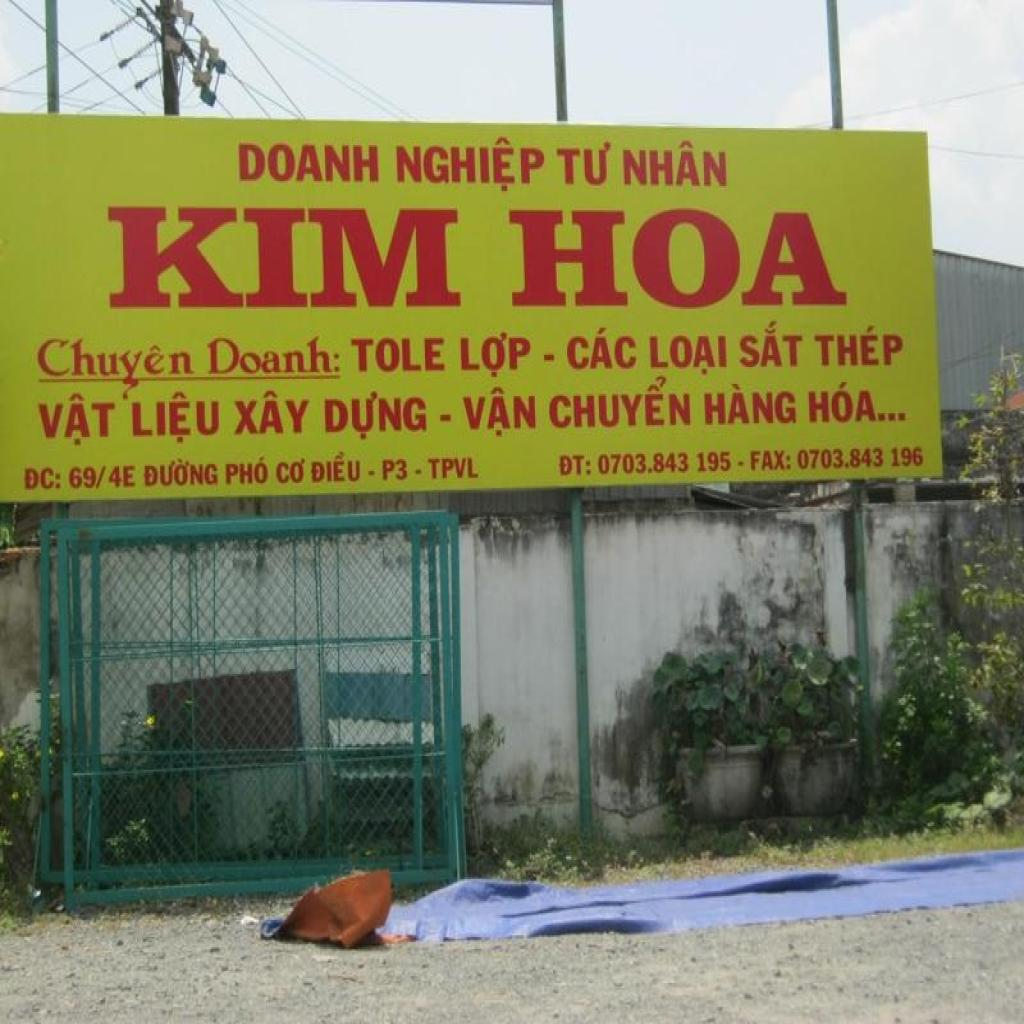text: (98, 196, 472, 318), (500, 200, 862, 319), (27, 328, 200, 406), (393, 133, 547, 195), (548, 376, 696, 440), (204, 331, 346, 382), (236, 140, 382, 188), (322, 386, 432, 445), (802, 374, 912, 432), (125, 387, 223, 449), (621, 138, 731, 193), (457, 377, 539, 444), (700, 381, 801, 435), (348, 330, 451, 382), (810, 322, 909, 376), (229, 388, 319, 446), (32, 392, 122, 449), (594, 446, 735, 482), (454, 328, 534, 384), (645, 328, 734, 377), (734, 316, 808, 374), (562, 326, 641, 375), (553, 138, 616, 191), (142, 457, 222, 490), (310, 451, 364, 488), (222, 452, 272, 488), (426, 452, 480, 483), (746, 444, 795, 476), (20, 464, 64, 495), (554, 452, 595, 482), (68, 464, 110, 493), (275, 454, 309, 488), (380, 456, 411, 484), (105, 464, 138, 490)
